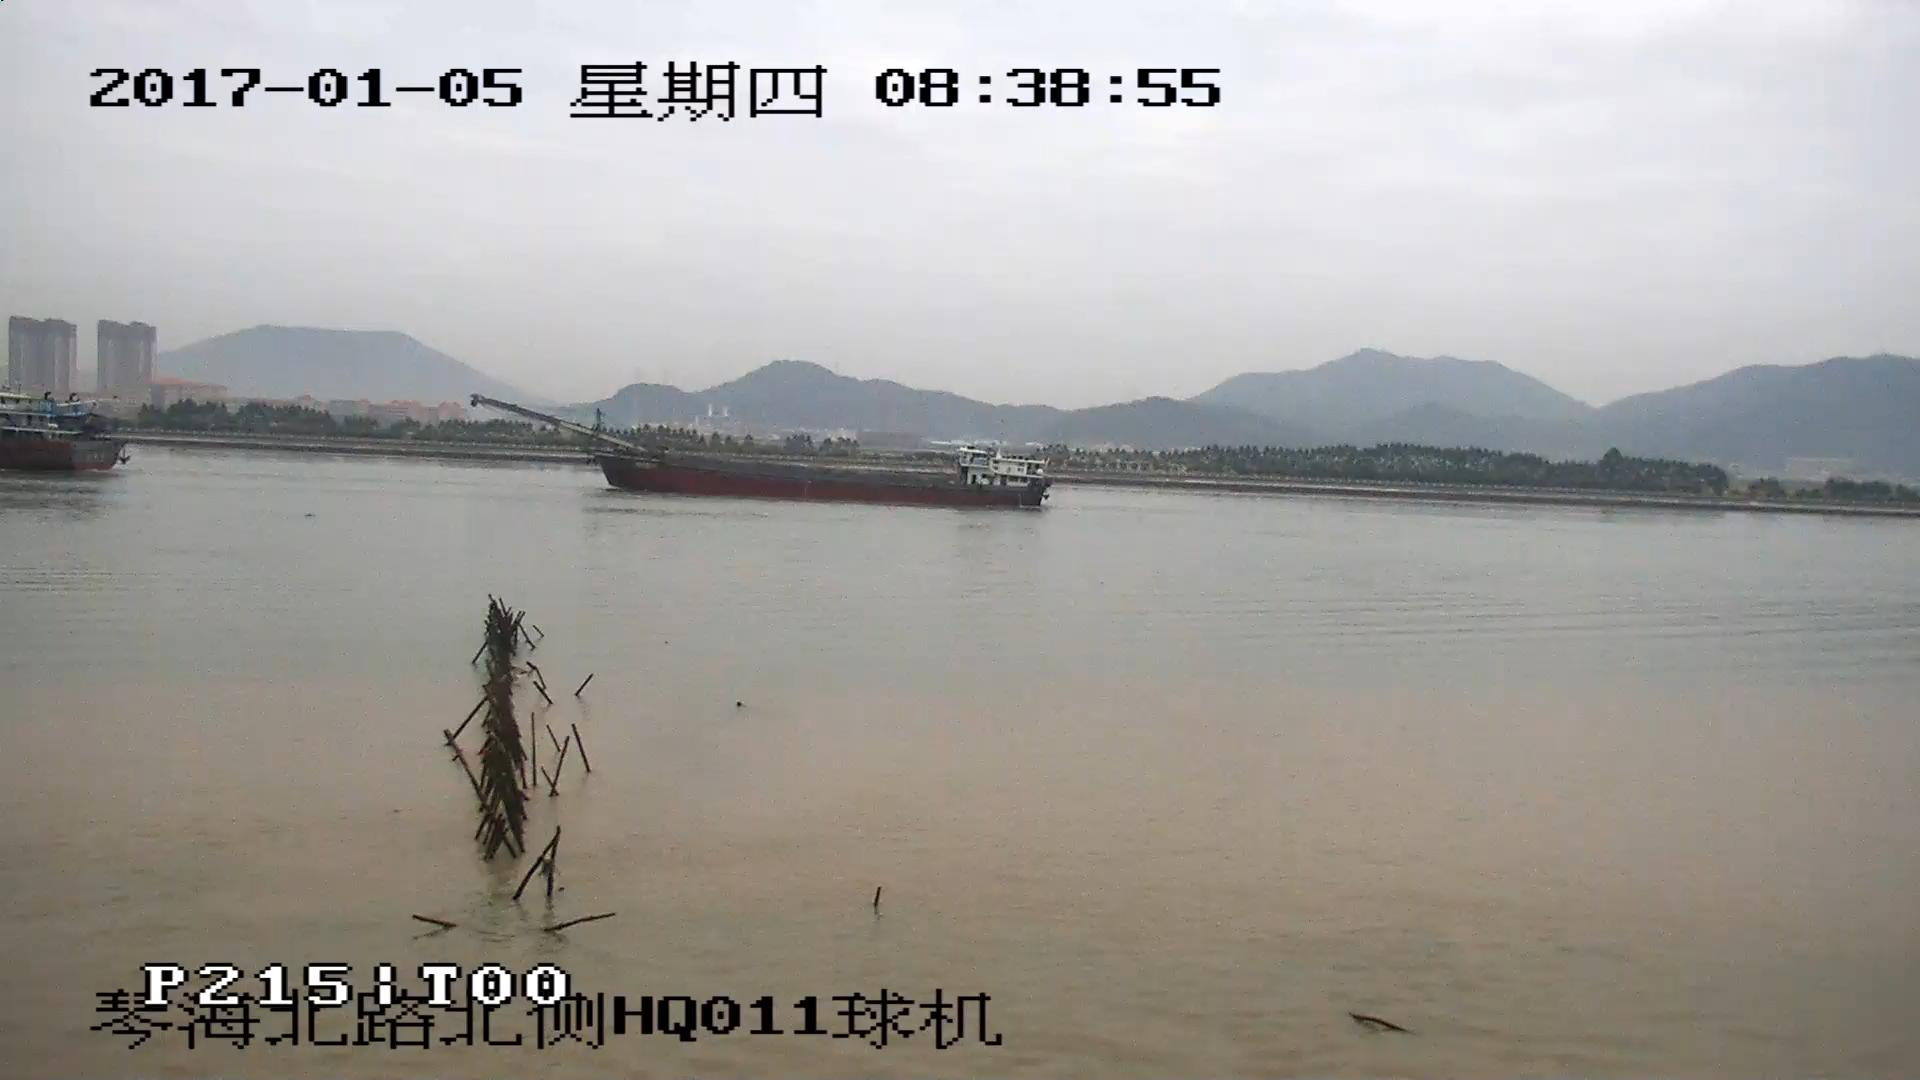bulk cargo carrier: (478, 398, 1047, 510)
